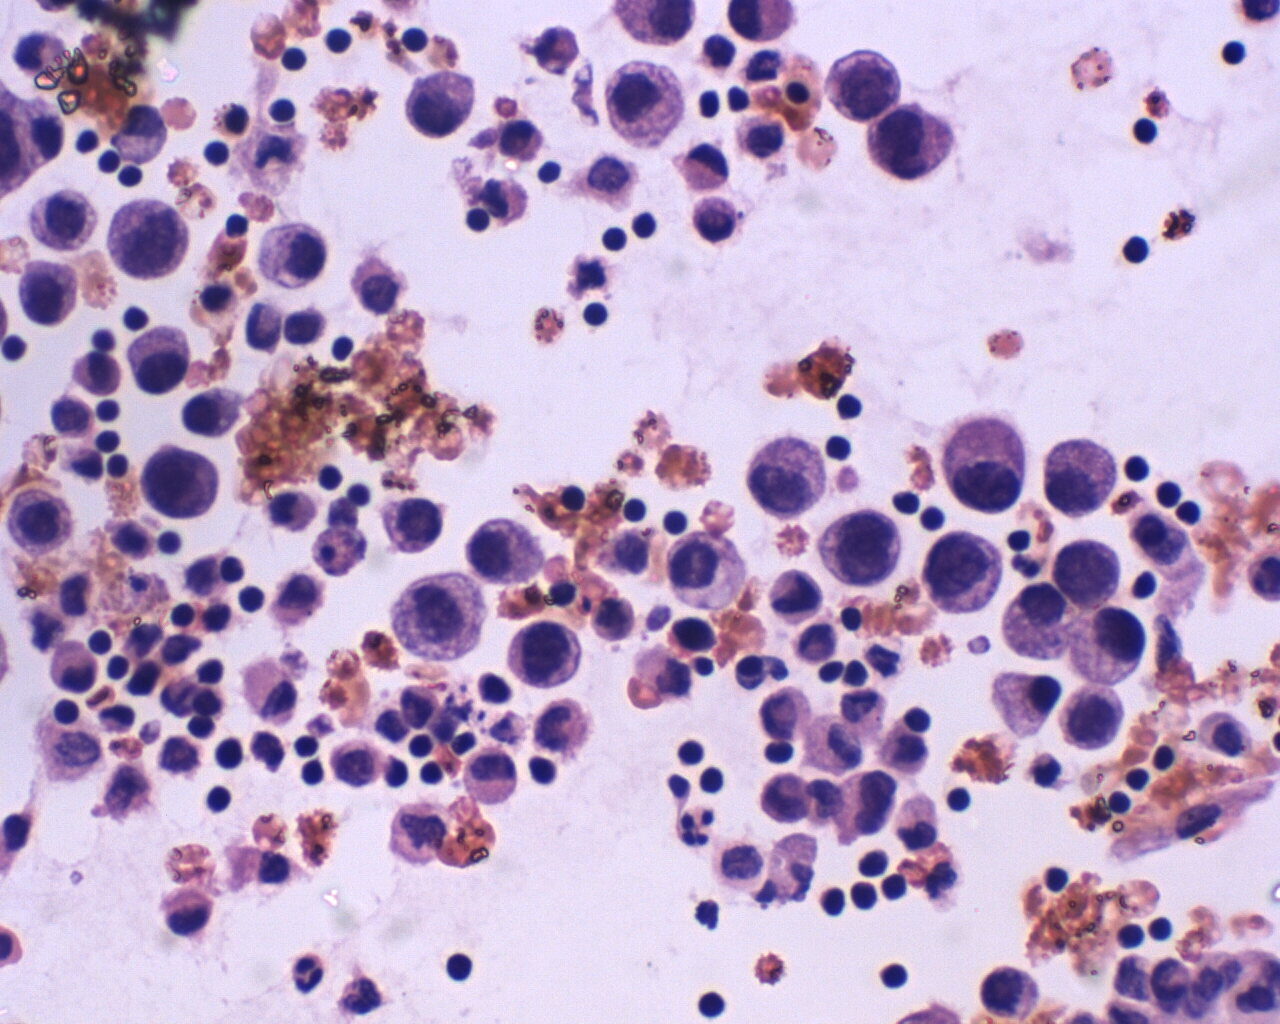ab: (942, 409, 1032, 518), (139, 439, 238, 531), (104, 196, 202, 283), (819, 509, 907, 597), (745, 430, 830, 519), (922, 527, 1002, 620), (1070, 604, 1156, 691), (1039, 427, 1119, 518), (868, 103, 956, 184), (1047, 532, 1122, 616), (498, 620, 586, 692), (823, 40, 899, 122), (403, 64, 483, 141), (2, 487, 82, 562), (27, 179, 104, 253), (13, 253, 80, 335), (258, 217, 332, 293), (1056, 681, 1128, 758), (376, 492, 447, 559)
lymph: (1109, 225, 1154, 274), (878, 954, 918, 997), (573, 297, 616, 336), (1122, 112, 1166, 152), (232, 582, 275, 616), (589, 222, 631, 256), (670, 734, 711, 768), (278, 43, 315, 77)
meso: (676, 138, 734, 192)
neutro: (285, 950, 334, 997)
